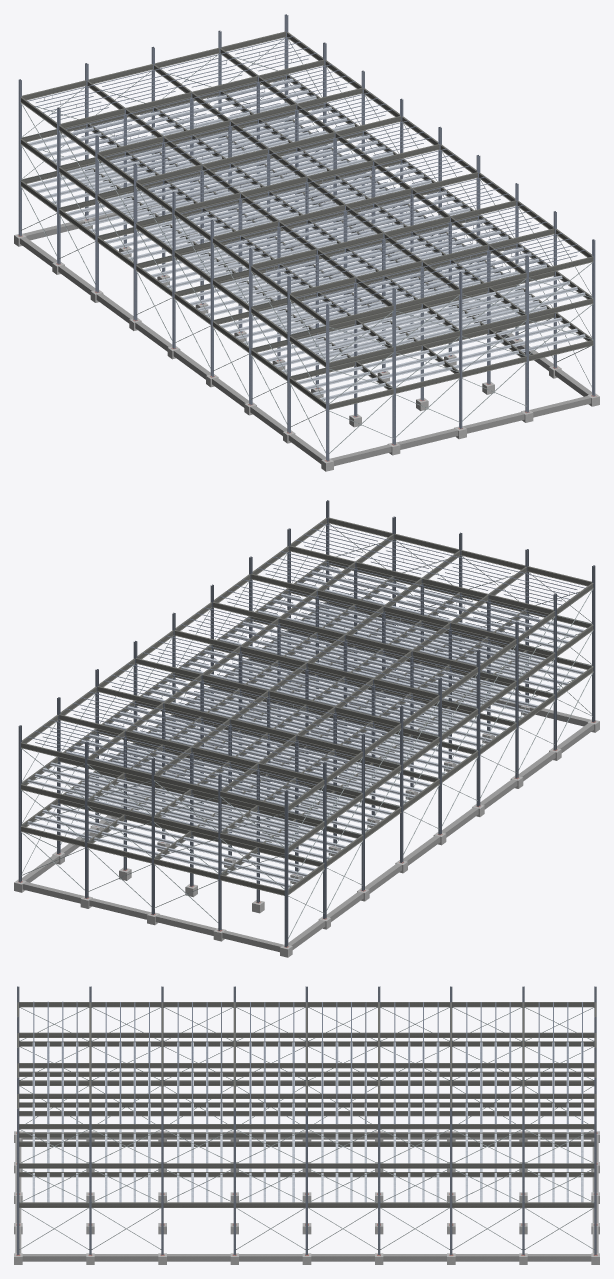
The model's file is nha-xuong(test).glb.
The picture shows the model from 3 angles, top to bottom: view 1: azimuth 30°, elevation 25°; view 2: azimuth 150°, elevation 25°; view 3: azimuth 270°, elevation 25°; orthographic projection. The views are drawn at different scales.
Visible parts, largest first — view 1: C-Floor Joists, C-Columns Outside, C-Wall Foundations, C-Columns Middle; view 2: C-Floor Joists, C-Columns Outside, C-Wall Foundations, C-Columns Middle; view 3: C-Floor Joists, C-Wall Foundations, C-Columns Outside, C-Columns Middle, C-Wide flange steel W21x68#1.060, C-Wide flange steel W21x68#1.062, C-Wide flange steel W21x68#1.066, C-Wide flange steel W21x68#1.080, C-Wide flange steel W21x68#1.082, C-Wide flange steel W21x68#1.086, C-Wide flange steel W21x68#1.061, C-Wide flange steel W21x68#1.067 (+100 smaller).
Part boxes in pixels (x1,y1,x2,y2): C-Floor Joists: (28, 78, 585, 401); C-Columns Outside: (18, 14, 595, 461); C-Wall Foundations: (20, 172, 591, 466); C-Columns Middle: (123, 75, 490, 416); C-Floor Joists: (27, 565, 584, 887); C-Columns Outside: (18, 500, 595, 947); C-Wall Foundations: (22, 659, 593, 952); C-Columns Middle: (123, 562, 490, 902); C-Floor Joists: (32, 1042, 583, 1202); C-Wall Foundations: (15, 1132, 598, 1261); C-Columns Outside: (17, 986, 596, 1255); C-Columns Middle: (91, 1032, 524, 1108); C-Wide flange steel W21x68#1.060: (19, 1163, 89, 1168); C-Wide flange steel W21x68#1.062: (163, 1163, 233, 1168); C-Wide flange steel W21x68#1.066: (452, 1163, 522, 1168); C-Wide flange steel W21x68#1.080: (19, 1124, 89, 1129); C-Wide flange steel W21x68#1.082: (163, 1124, 233, 1129); C-Wide flange steel W21x68#1.086: (452, 1124, 522, 1129); C-Wide flange steel W21x68#1.061: (91, 1163, 161, 1168); C-Wide flange steel W21x68#1.067: (524, 1163, 594, 1168).
Bounding box in the file's own units: 31.39 × 17.99 × 61.87.
7 materials, 7 textured.
